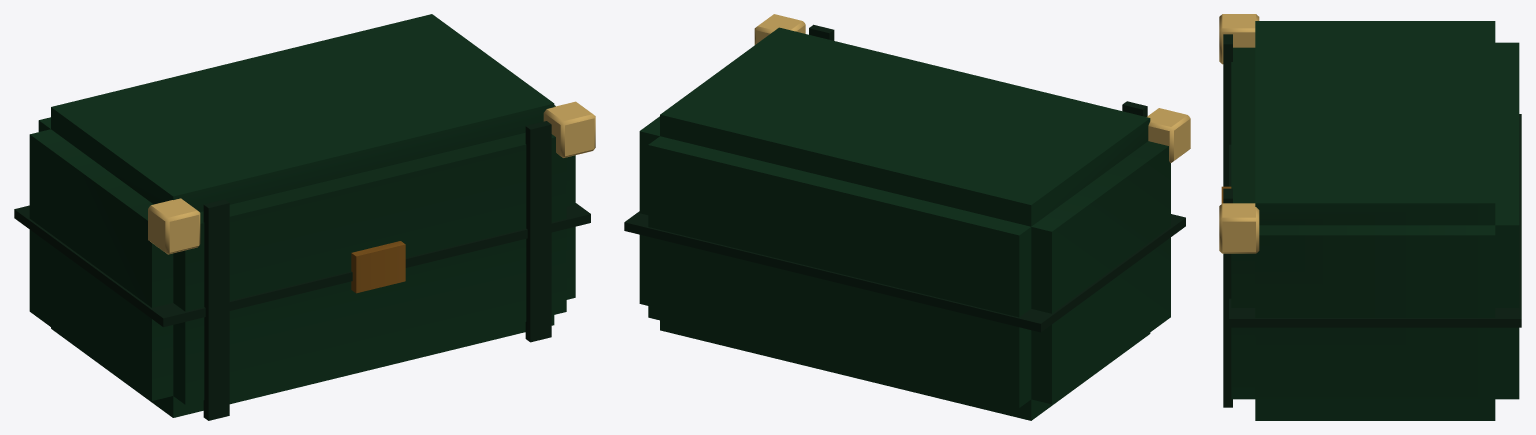
Rendered from mall-trunk.glb.
3 views of the same model, side by side, from view 1: azimuth 30°, elevation 25°; view 2: azimuth 150°, elevation 25°; view 3: azimuth 270°, elevation 25° (orthographic). The views are drawn at different scales.
Parts seen in each view (by area): view 1: body__leather, fittings__brass; view 2: body__leather, fittings__brass; view 3: body__leather, fittings__brass.
Part boxes in pixels (x1=…): body__leather: x1=14, y1=14, x2=590, y2=420; fittings__brass: x1=148, y1=101, x2=595, y2=254; body__leather: x1=624, y1=24, x2=1185, y2=420; fittings__brass: x1=754, y1=14, x2=1190, y2=162; body__leather: x1=1221, y1=21, x2=1521, y2=420; fittings__brass: x1=1219, y1=14, x2=1259, y2=253.
Bounding box in the file's own units: 0.61 × 0.3 × 0.378.
